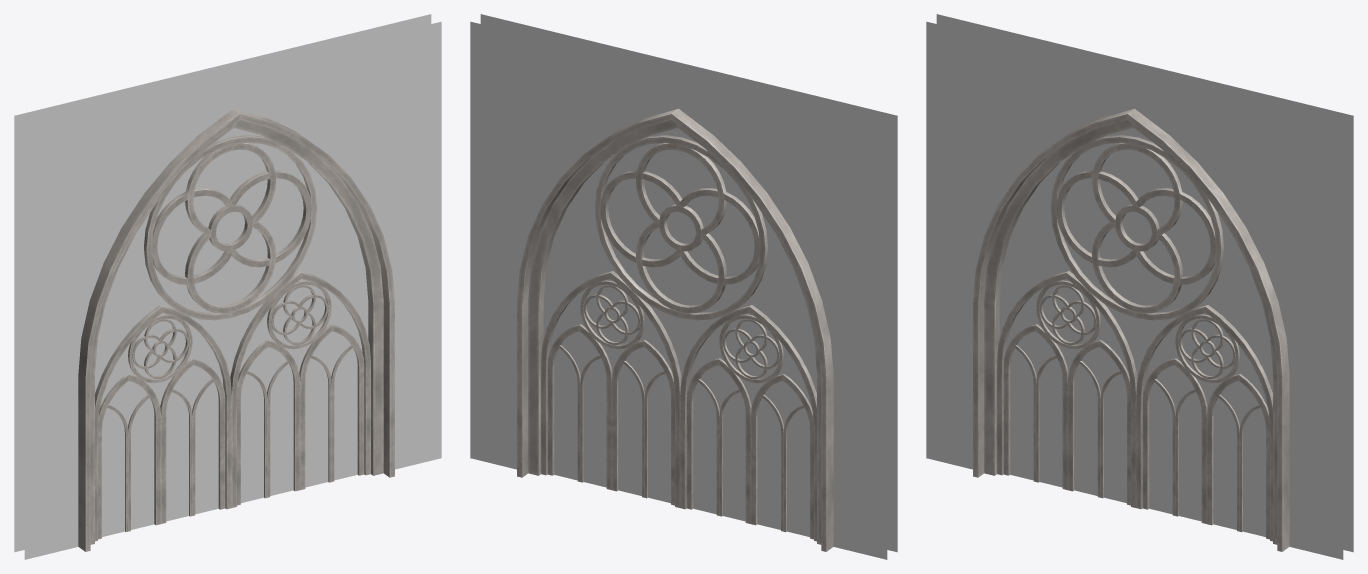
Rendered from Wall_Window_G_C.fbx.
3 views of the same model, side by side, from view 1: azimuth 30°, elevation 25°; view 2: azimuth 150°, elevation 25°; view 3: azimuth 330°, elevation 25° (orthographic).
Parts seen in each view (by area): view 1: Wall_Window_G_C; view 2: Wall_Window_G_C; view 3: Wall_Window_G_C.
Boxes of the visible parts, bbox=[...] form: Wall_Window_G_C: bbox=[14, 14, 441, 559]; Wall_Window_G_C: bbox=[470, 14, 897, 559]; Wall_Window_G_C: bbox=[926, 14, 1353, 559].
Bounding box in the file's own units: 6 × 0.6115 × 6.
